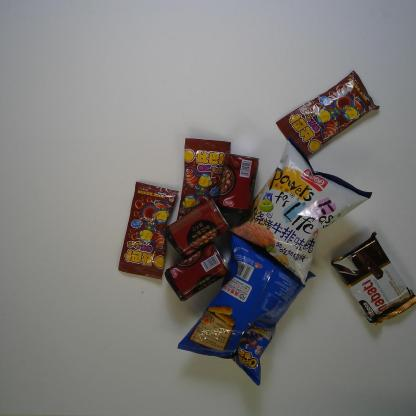Candy: (276, 69, 381, 157), (116, 180, 178, 280), (175, 136, 232, 220)
Canned Food: (164, 195, 232, 258), (164, 239, 231, 301), (214, 153, 261, 218)
Dessert: (330, 230, 416, 330)
Puffed Food: (175, 235, 318, 390), (229, 134, 372, 288)
